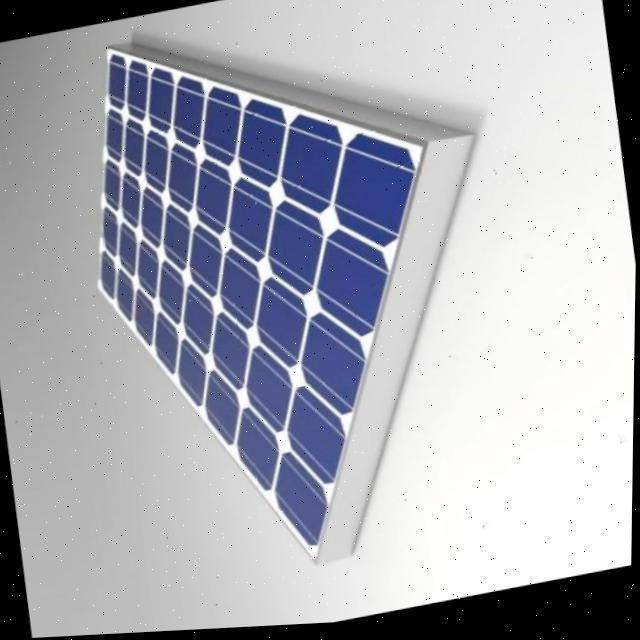Normal Solar Panel: (0, 51, 462, 562)
